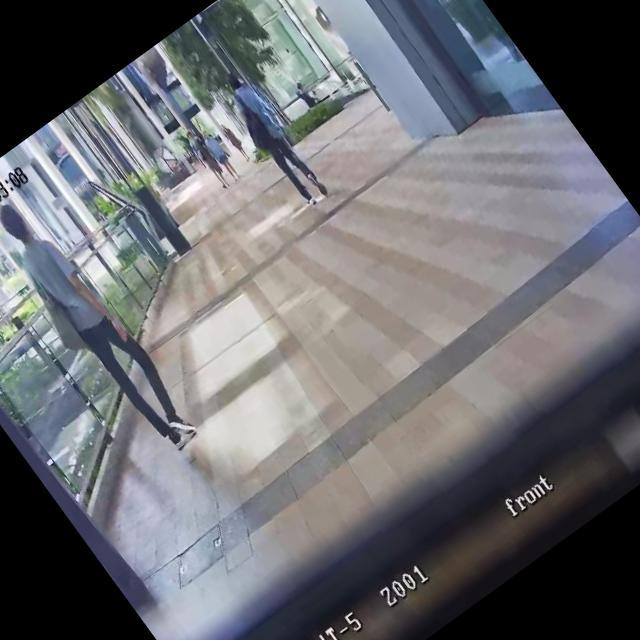person: (0, 186, 207, 466), (212, 63, 334, 213), (418, 0, 525, 69), (182, 126, 234, 191), (198, 126, 244, 182), (218, 121, 252, 164), (292, 78, 320, 109)
